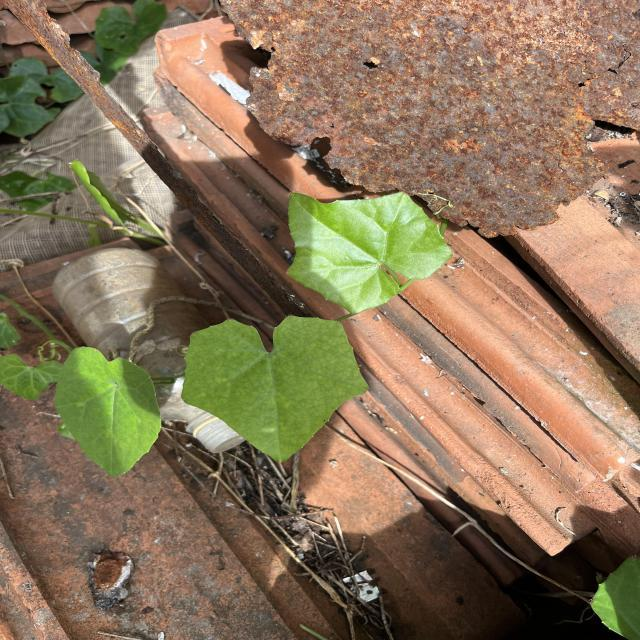Coccinia grandis: (180, 314, 372, 466), (284, 190, 454, 316)
